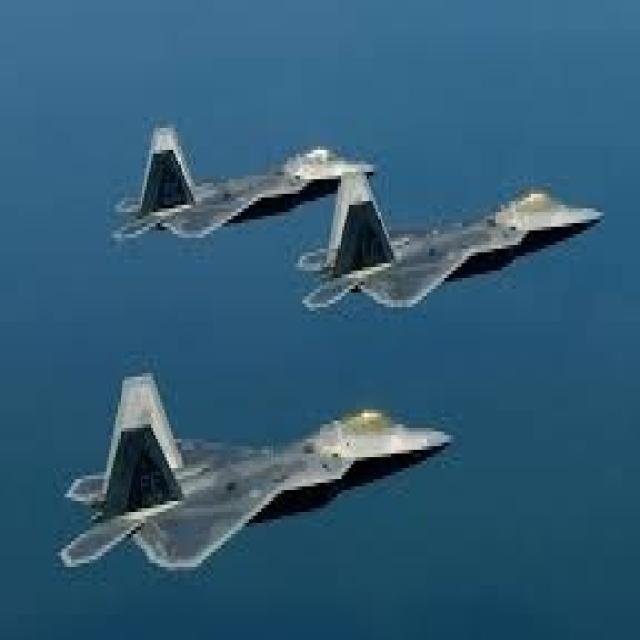F22: (34, 353, 470, 589), (297, 124, 624, 350), (96, 45, 388, 266)
